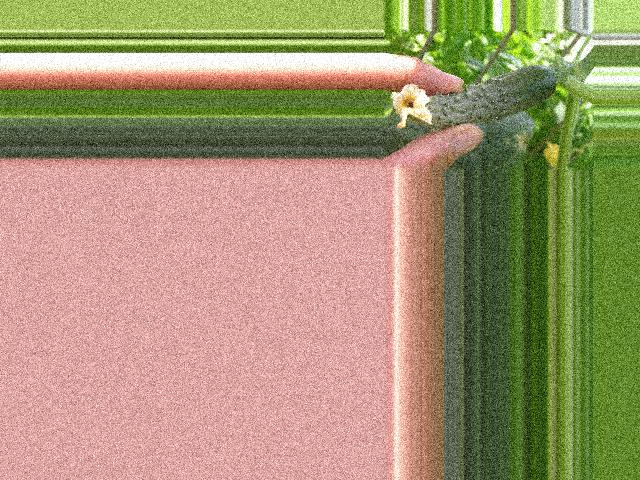cucumber: (392, 65, 557, 129)
